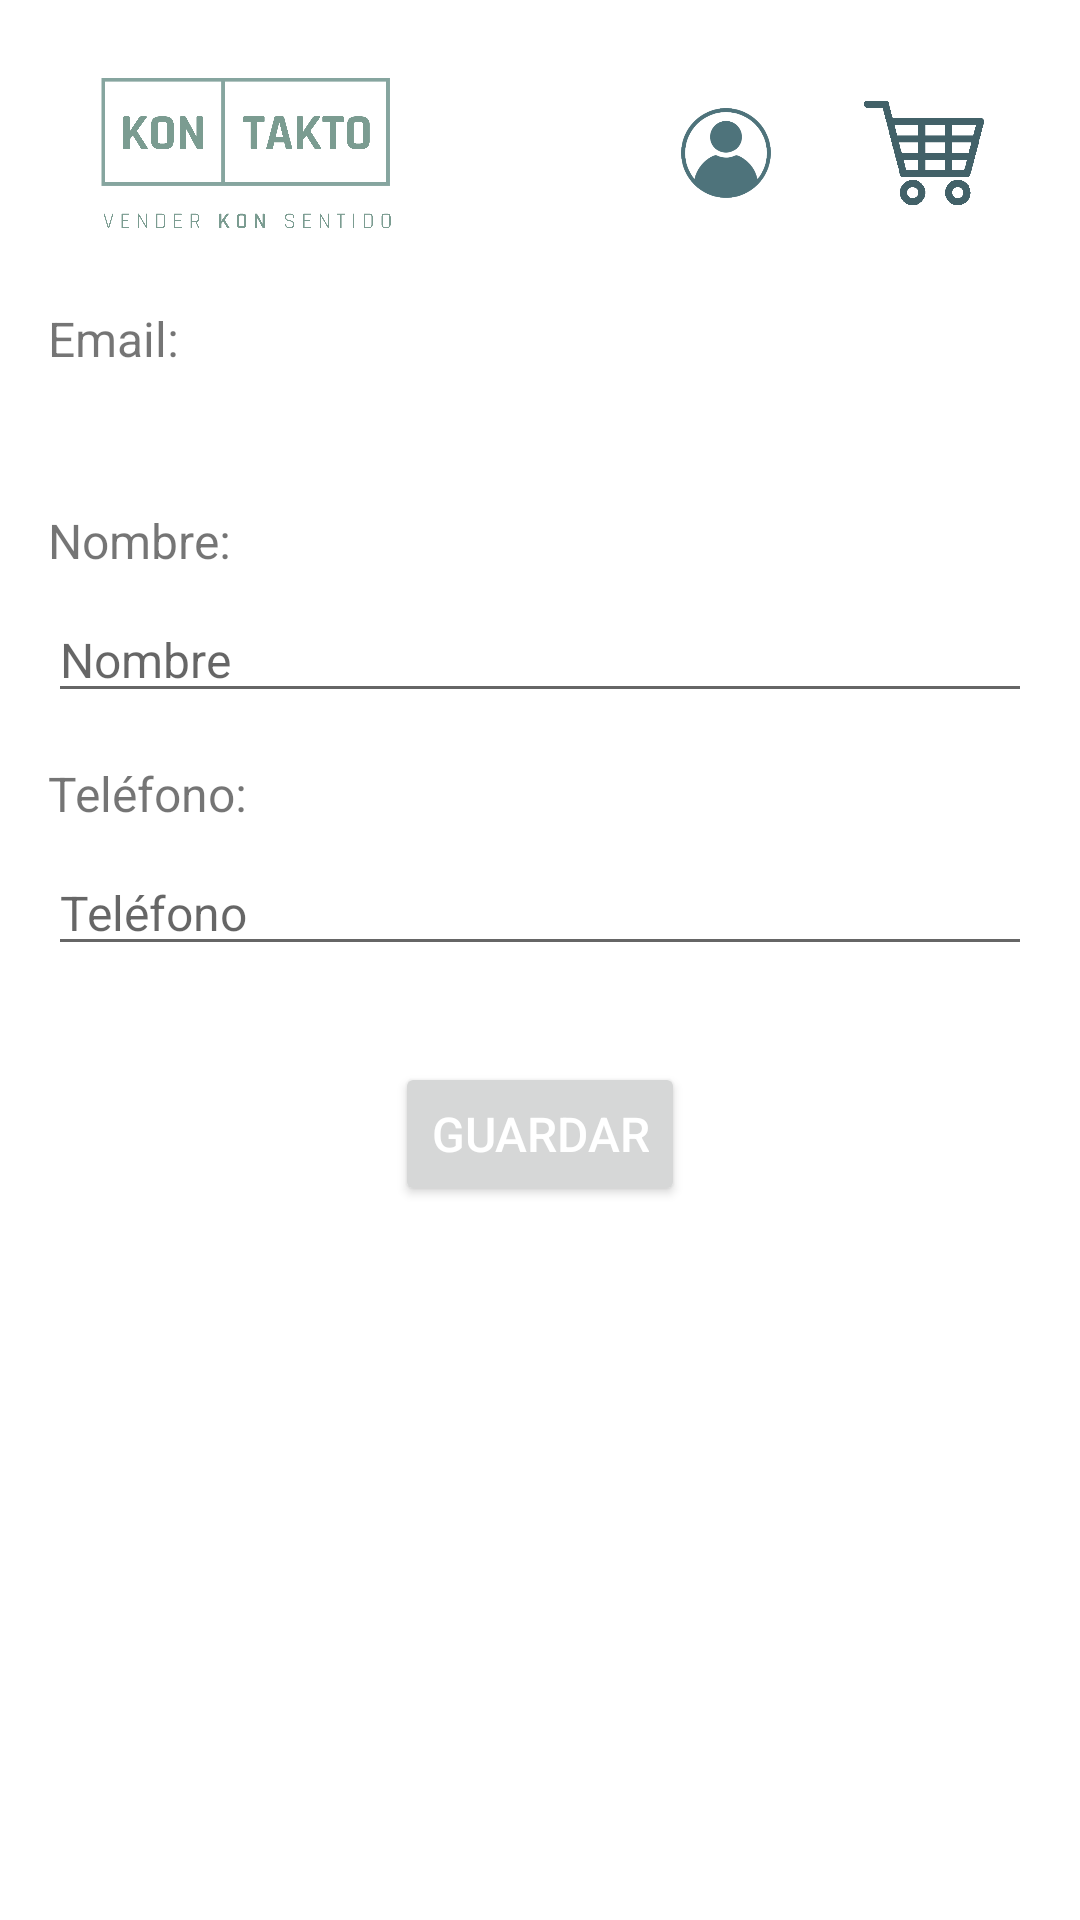

Screen size 1080px x 1920px. Icon name, then its center in pixels as (x,y):
carrro: (924,153)
perffil: (726,153)
